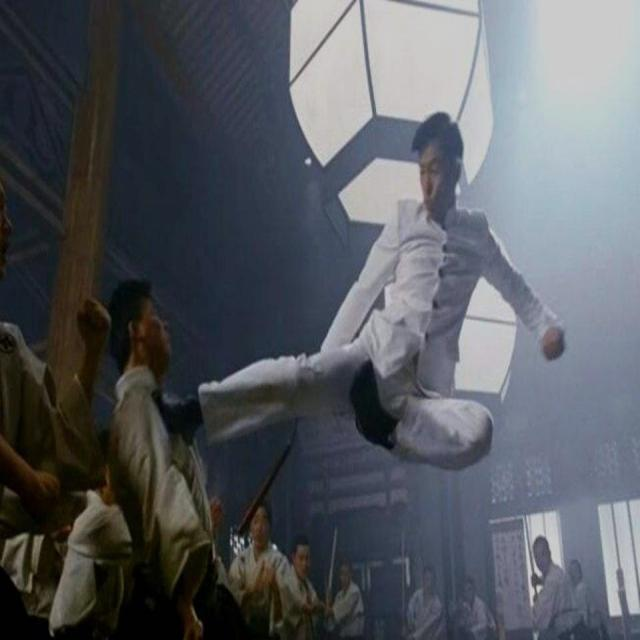fight: (109, 110, 566, 638)
